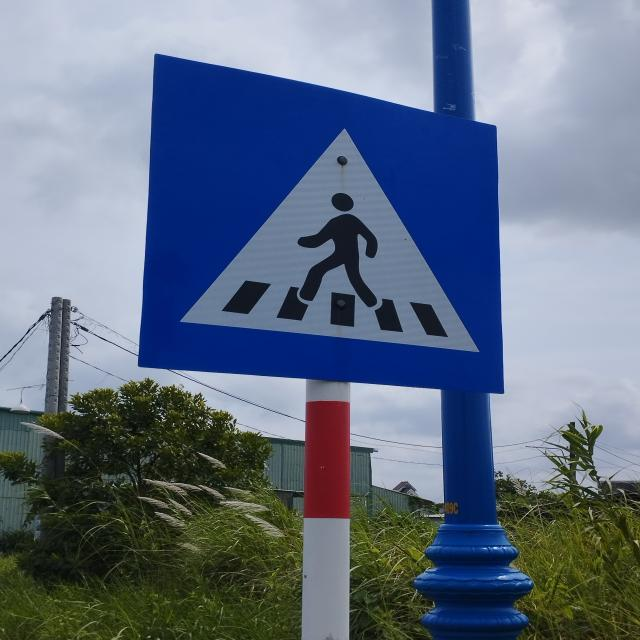Giao_Nhau_Duong_Uu_Tien: (138, 54, 503, 392)
